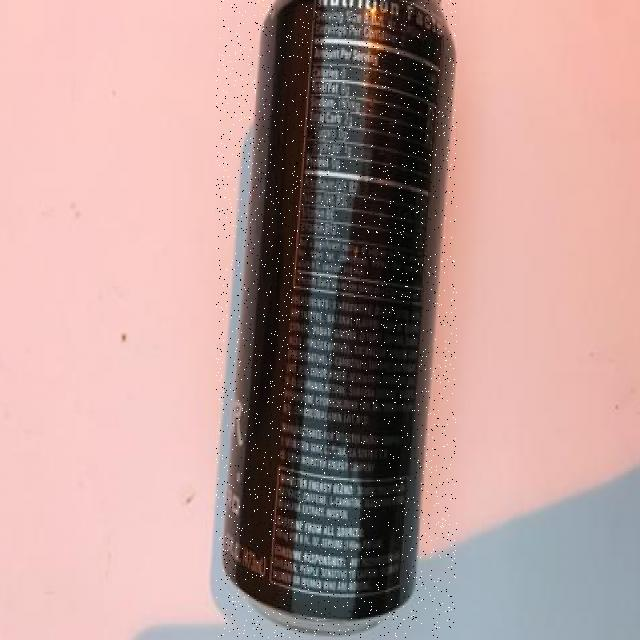metal: (216, 0, 457, 638)
